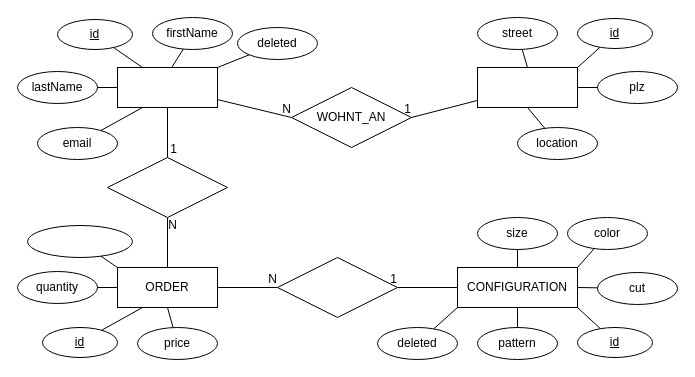
Image size: 695x377. Some labels were removed from this diagram. The centre of each missing label's shape, as x and y in pixels:
"ADDRESS" goes at point 527,87.
"CUSTOMER" goes at point 167,87.
"ENTHÄLT" goes at point 337,287.
"shippingMethod" goes at point 79,241.
"TÄTIGT" goes at point 167,187.
